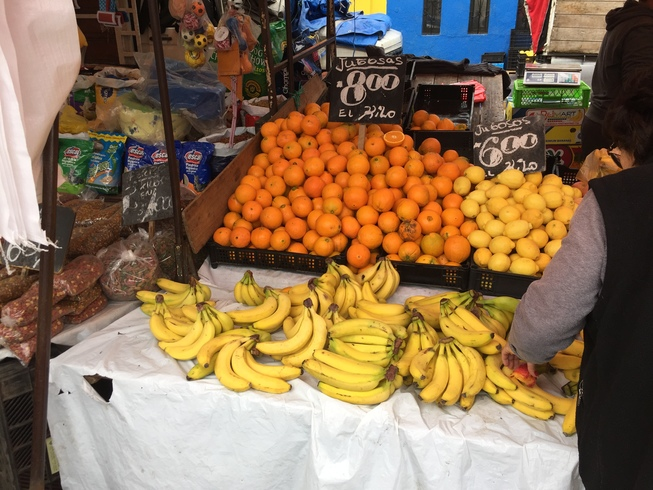precio: (466, 110, 559, 187), (325, 54, 417, 125)
